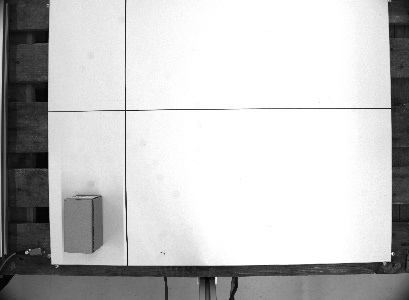b2: (61, 193, 104, 255)
